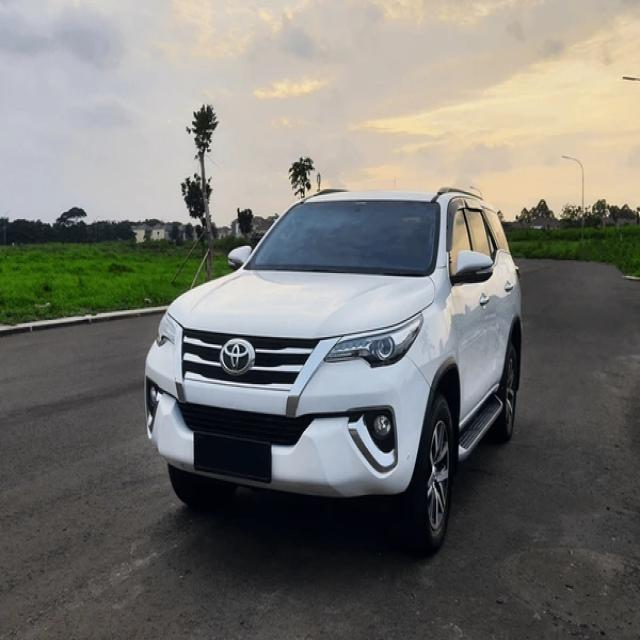toyota: (218, 338, 254, 376)
